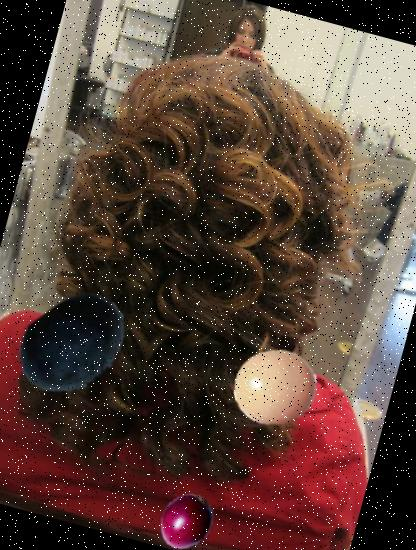Blueberry: (3, 274, 145, 416)
Grapefruit: (224, 336, 326, 438)
Tamarillo: (150, 485, 223, 550)
